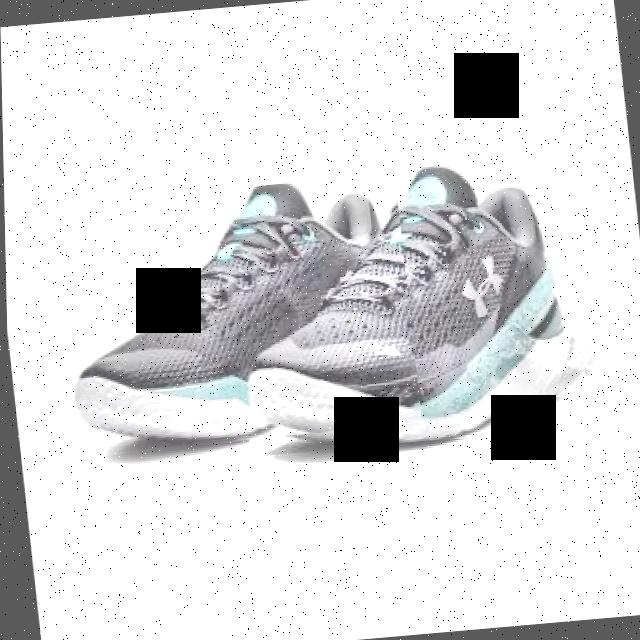shoe: (219, 153, 597, 456), (49, 174, 421, 458)
